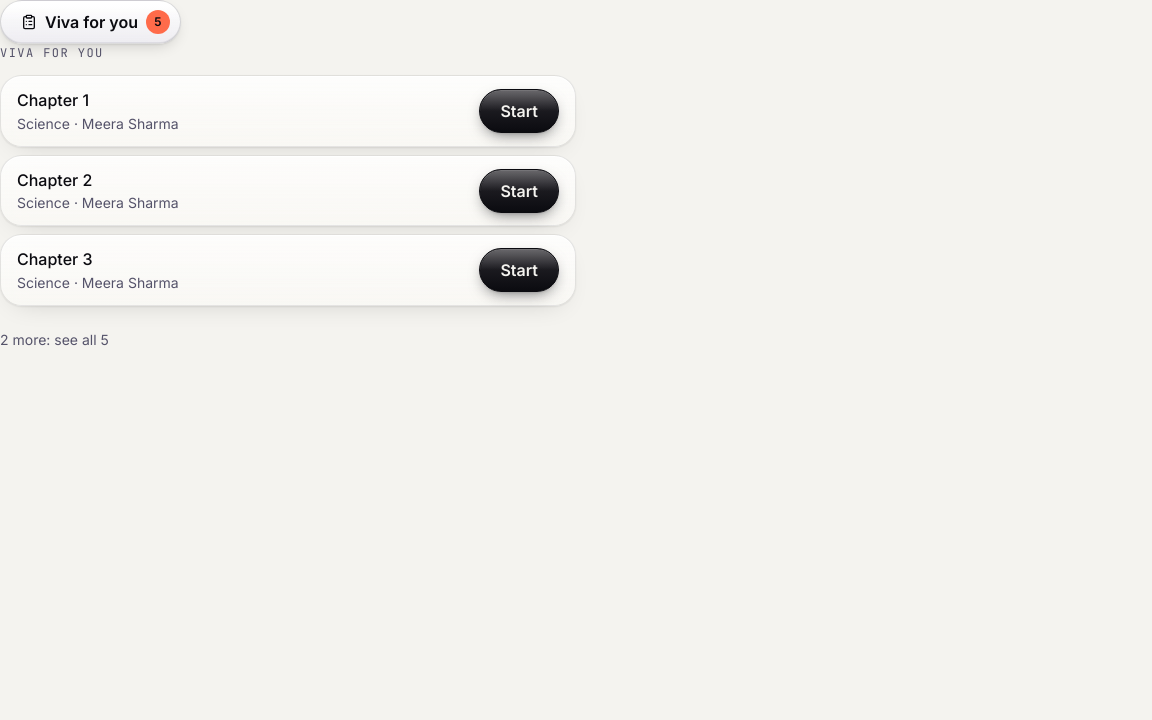
Test case: set vivas on the student's home › the corner button counts them and opens every one in a floating window
Click the button with aria-label "Viva for you, 5 vivas waiting" at (90, 22), box [0,0,181,44]
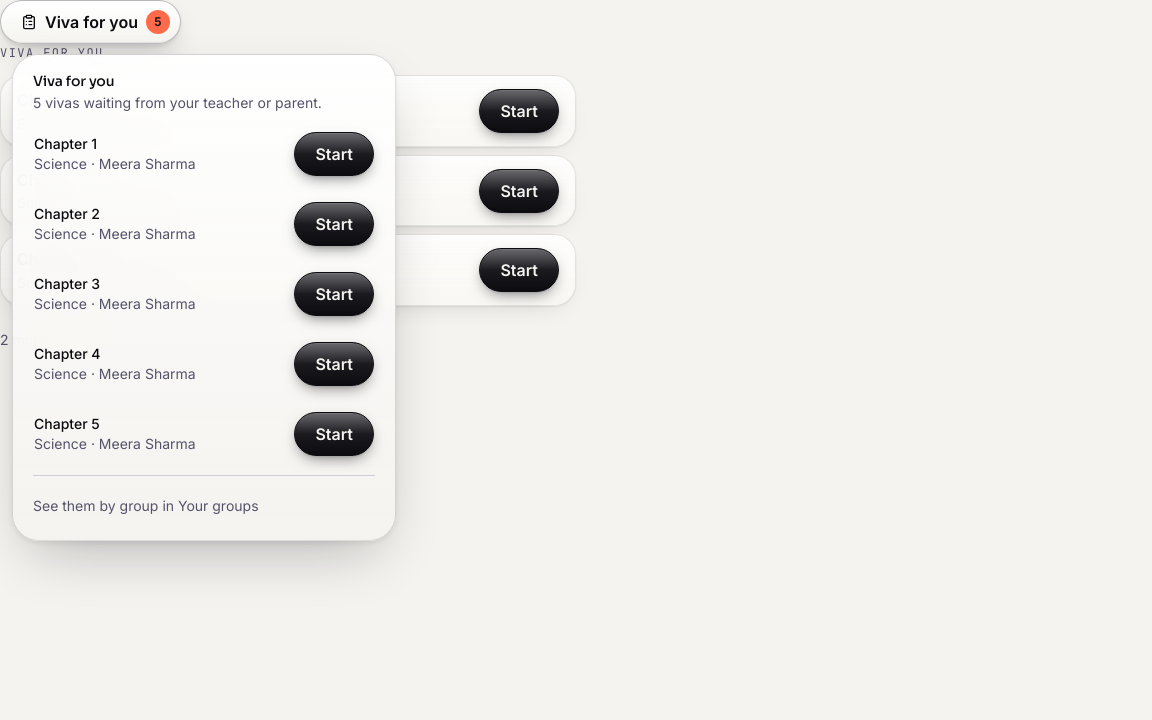
Click the button "Start" in the row of "Chapter 5" at (334, 434), box [294,412,374,456]
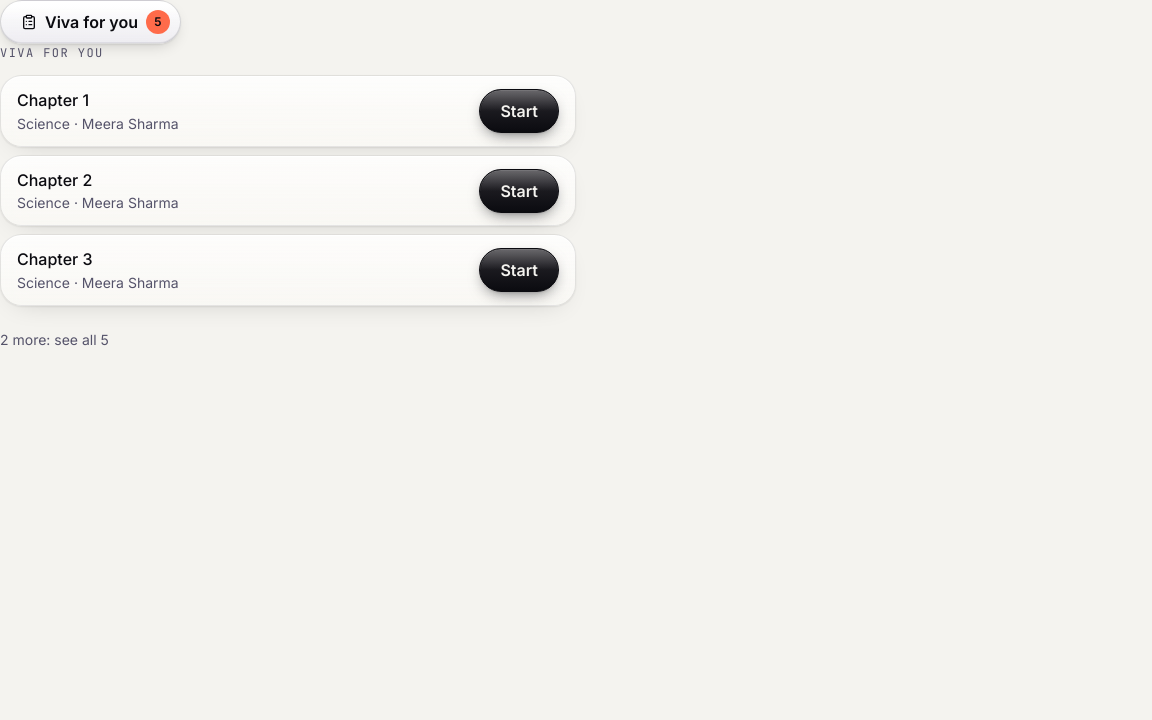
Result: the dialog is gone
